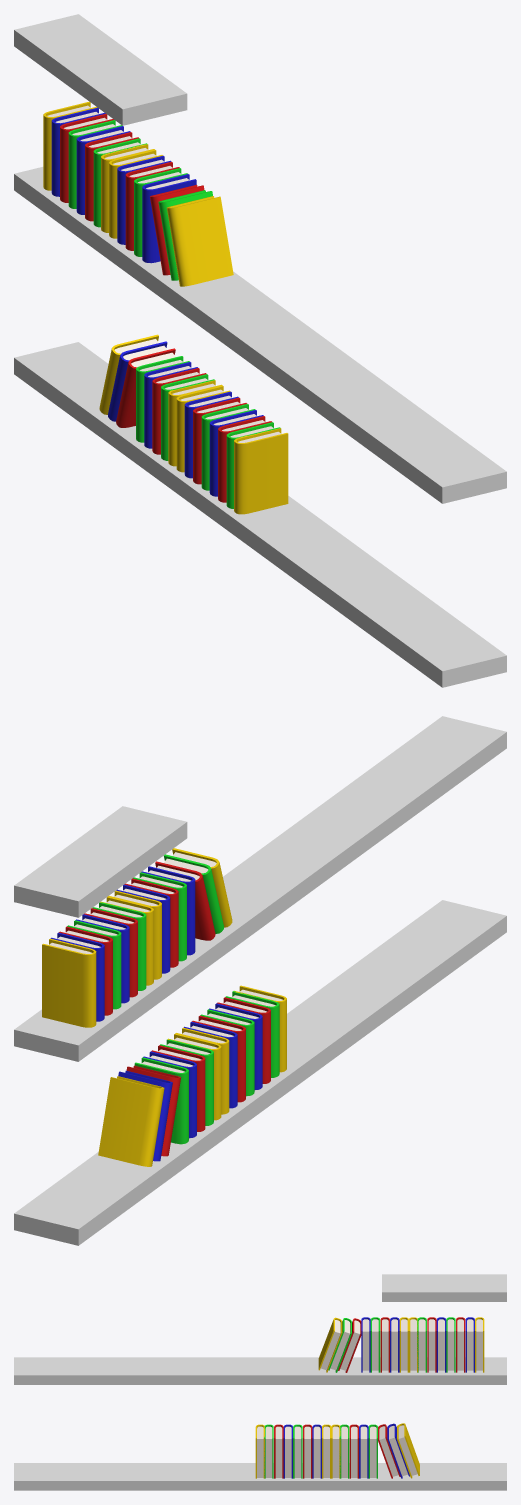
File: rak buku.fbx
3 renders of one model, top to bottom at view 1: azimuth 30°, elevation 25°; view 2: azimuth 150°, elevation 25°; view 3: azimuth 270°, elevation 25°, orthographic. The views are drawn at different scales.
Visible parts, largest first — view 1: Cube.009, Cube.091, Cube.074, Cube.088, Cube.061, Cube.060, Cube.059, Cube.081, Cube.077, Cube.086, Cube.085, Cube.076 (+21 smaller); view 2: Cube.009, Cube.059, Cube.075, Cube.062, Cube.089, Cube.090, Cube.087, Cube.079, Cube.082, Cube.081, Cube.077, Cube.086 (+21 smaller); view 3: Cube.009, Cube.091, Cube.059, Cube.087, Cube.080, Cube.090, Cube.089, Cube.076, Cube.077, Cube.079, Cube.081, Cube.084 (+21 smaller).
Boxes of the visible parts, x1=… form: Cube.009: x1=14, y1=14, x2=506, y2=687; Cube.091: x1=167, y1=196, x2=233, y2=286; Cube.074: x1=234, y1=428, x2=288, y2=514; Cube.088: x1=142, y1=174, x2=196, y2=263; Cube.061: x1=116, y1=348, x2=175, y2=427; Cube.060: x1=108, y1=341, x2=167, y2=421; Cube.059: x1=99, y1=334, x2=158, y2=414; Cube.081: x1=85, y1=132, x2=138, y2=221; Cube.077: x1=60, y1=114, x2=113, y2=202; Cube.086: x1=125, y1=161, x2=179, y2=250; Cube.085: x1=117, y1=155, x2=171, y2=244; Cube.076: x1=51, y1=107, x2=105, y2=196; Cube.009: x1=14, y1=716, x2=506, y2=1245; Cube.059: x1=98, y1=1076, x2=164, y2=1166; Cube.075: x1=42, y1=938, x2=96, y2=1027; Cube.062: x1=134, y1=1057, x2=188, y2=1144; Cube.089: x1=155, y1=861, x2=215, y2=940; Cube.090: x1=164, y1=854, x2=223, y2=933; Cube.087: x1=133, y1=872, x2=186, y2=961; Cube.079: x1=67, y1=920, x2=121, y2=1009; Cube.082: x1=92, y1=902, x2=146, y2=990; Cube.081: x1=84, y1=908, x2=137, y2=997; Cube.077: x1=59, y1=926, x2=112, y2=1015; Cube.086: x1=124, y1=878, x2=178, y2=967; Cube.009: x1=14, y1=1274, x2=506, y2=1490; Cube.091: x1=318, y1=1317, x2=342, y2=1372; Cube.059: x1=397, y1=1423, x2=419, y2=1478; Cube.087: x1=370, y1=1317, x2=380, y2=1372; Cube.080: x1=436, y1=1317, x2=446, y2=1372; Cube.090: x1=328, y1=1318, x2=351, y2=1372; Cube.089: x1=338, y1=1318, x2=361, y2=1372; Cube.076: x1=465, y1=1317, x2=474, y2=1372; Cube.077: x1=456, y1=1317, x2=465, y2=1372; Cube.079: x1=446, y1=1317, x2=455, y2=1372; Cube.081: x1=427, y1=1317, x2=436, y2=1372; Cube.084: x1=399, y1=1317, x2=408, y2=1372.
Bounding box in the file's own units: 17.34 × 88.44 × 199.
